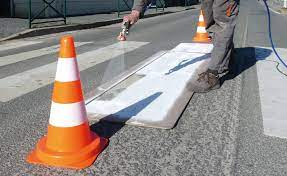obstacle: (36, 33, 106, 171), (195, 8, 211, 47)
